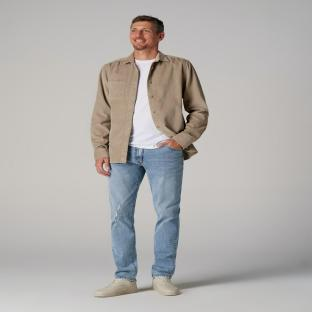Human: (91, 16, 208, 296)
